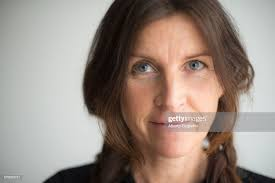white_female: (122, 29, 217, 156)
